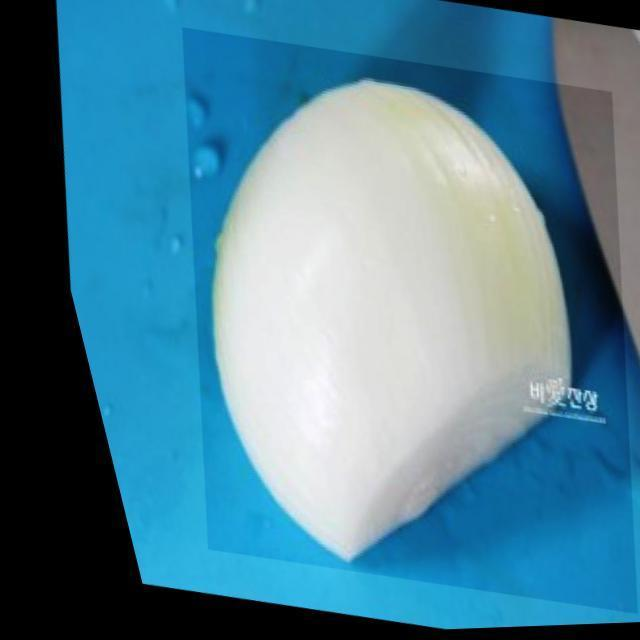Onion: (80, 17, 640, 630)
